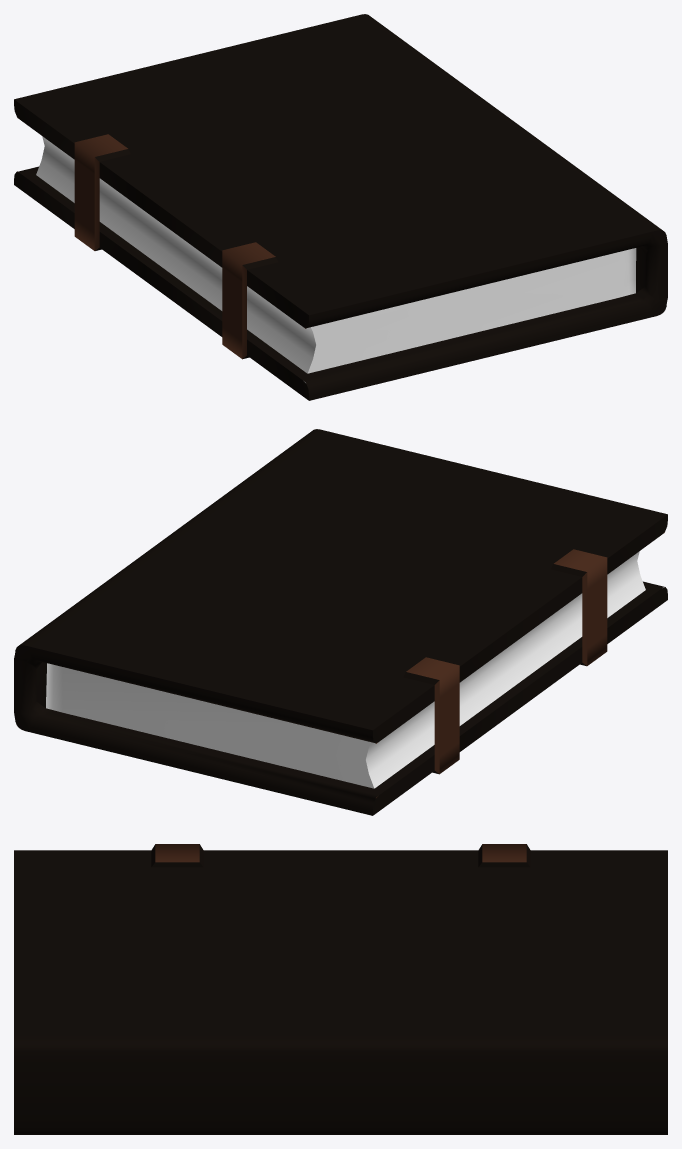
The model's file is Book001.FBX.
3 views of the same model, one above another, from view 1: azimuth 30°, elevation 25°; view 2: azimuth 150°, elevation 25°; view 3: azimuth 270°, elevation 25° (orthographic). The views are drawn at different scales.
Parts seen in each view (by area): view 1: Book; view 2: Book; view 3: Book.
Part boxes in pixels (x1,y1,x2,y2): Book: (14,14,667,400); Book: (14,429,667,815); Book: (14,844,667,1134).
Size of the model in its own units: 3.54 by 0.8808 by 5.
